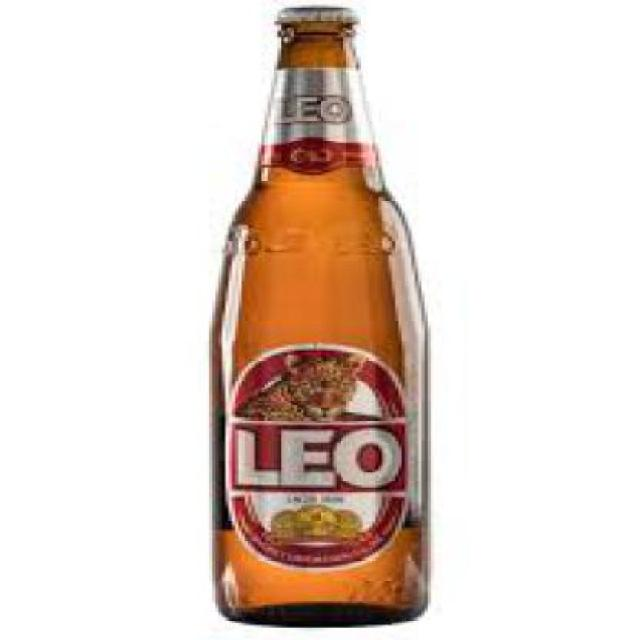kaca: (209, 20, 425, 625)
